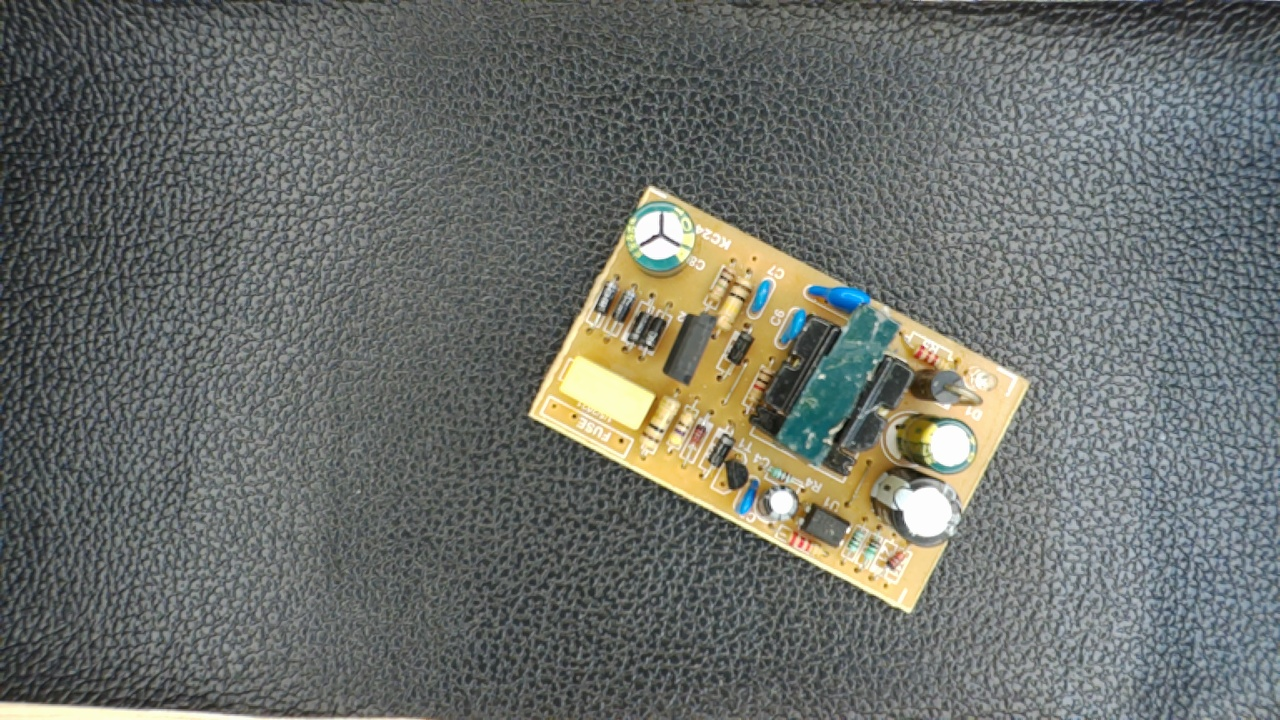hv_capacitor: (621, 204, 699, 278)
mov: (803, 278, 879, 317)
optocoupler: (798, 501, 854, 549)
